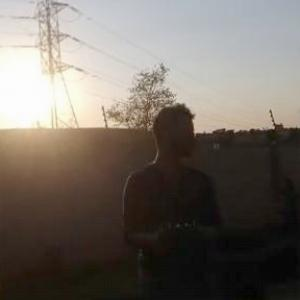follow: (120, 101, 223, 299)
